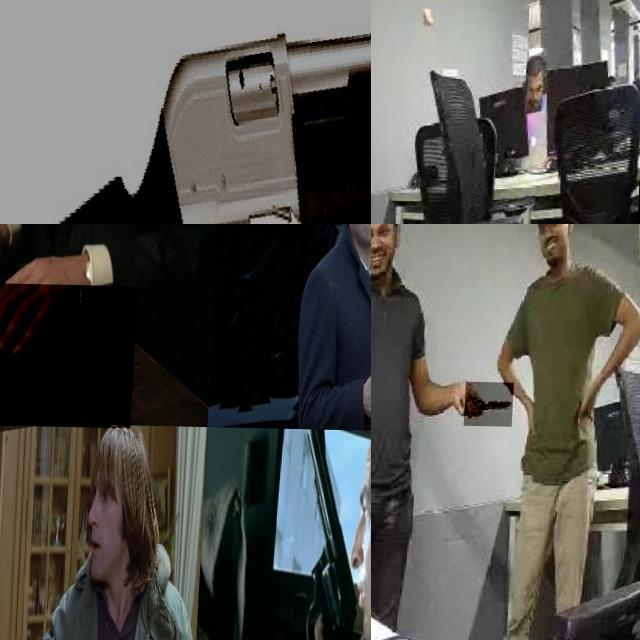-: (468, 380, 518, 425), (371, 157, 385, 224)
gun-knife-thesis - v11 Yolov5 augmented: (0, 0, 371, 224), (0, 283, 139, 427), (296, 428, 371, 640), (0, 554, 35, 640)
